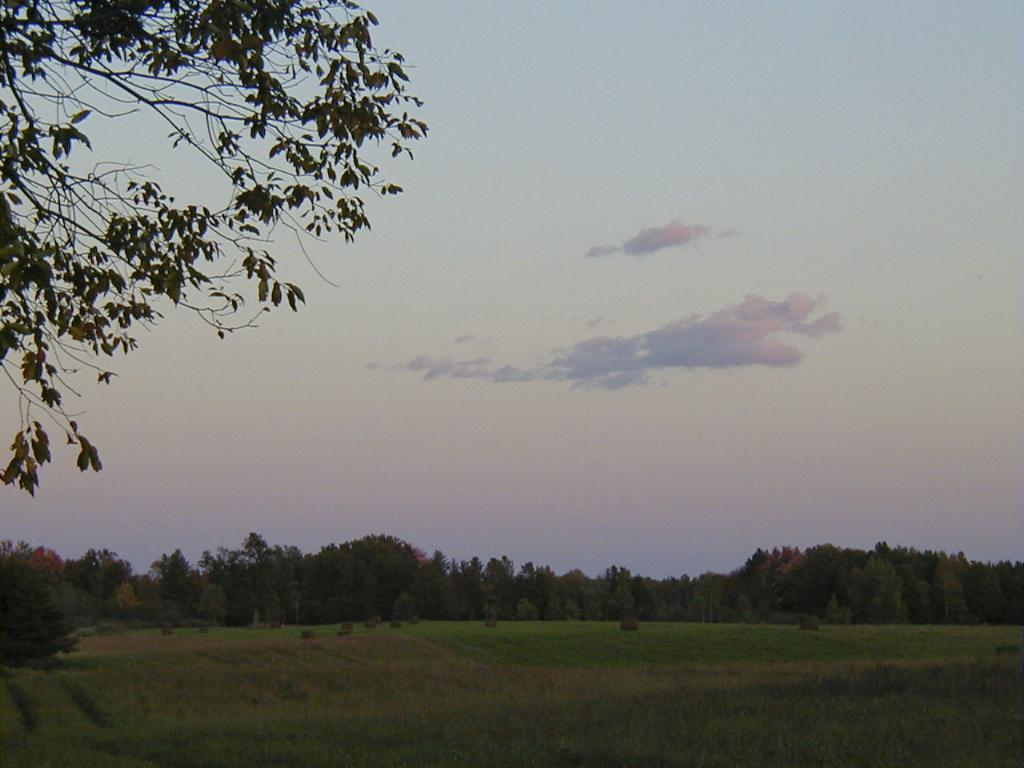Tree: (18, 10, 422, 563), (0, 518, 1017, 615), (0, 570, 112, 662)
